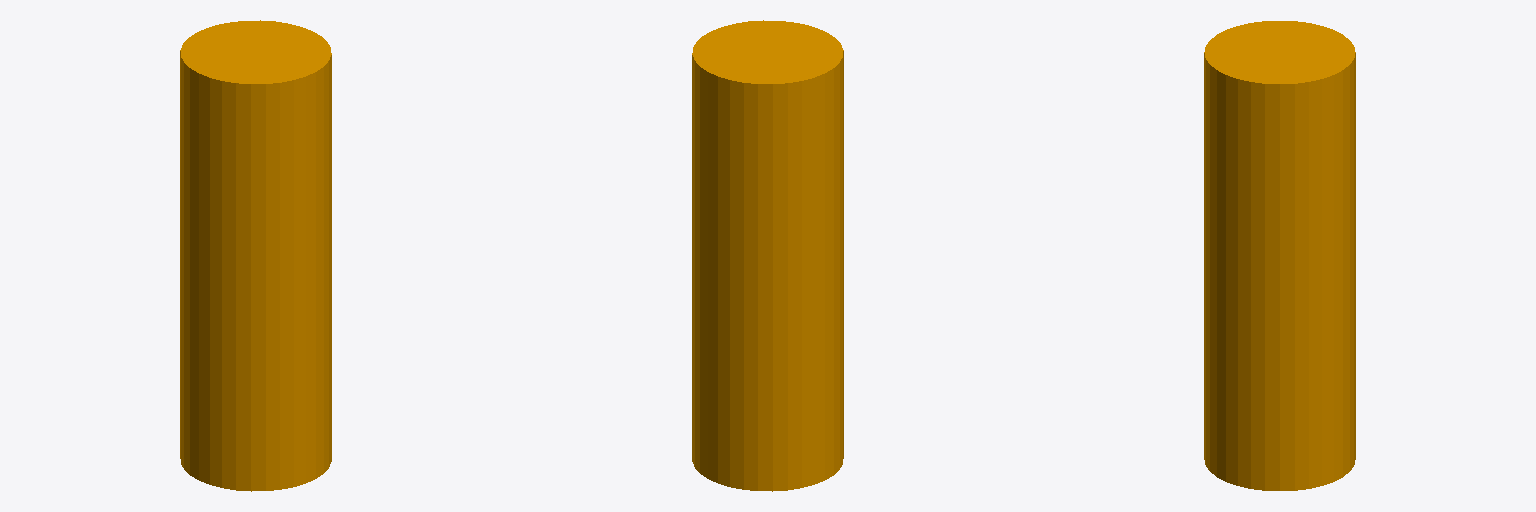
URDF robot description (simple_box):
<?xml version="1.0"?>
<robot name="simple_box">
  <link name="my_box">
    <inertial>
      <origin xyz="0 0 0" /> 
      <mass value="1.0" />
      <inertia  ixx="1.0" ixy="0.0"  ixz="0.0"  iyy="100.0"  iyz="0.0"  izz="1.0" />
    </inertial>
    <visual>
      <origin xyz="0 0 0"/>
      <geometry>
        <cylinder radius="0.029" length="0.172"/>
      </geometry>
    </visual>
    <collision>
      <origin xyz="0 0 0"/>
      <geometry>
        <cylinder radius="0.029" length="0.172"/>
      </geometry>
    </collision>
  </link>
  <gazebo reference="my_box">
    <material>Gazebo/Yellow</material>
  </gazebo>
</robot>

--- What the picture shows (computed from the rendered views, not written in the file) ---
The picture shows the robot from 3 angles, left to right: view 1: azimuth 30°, elevation 25°; view 2: azimuth 150°, elevation 25°; view 3: azimuth 270°, elevation 25°; orthographic projection.
Robot: simple_box — 1 links, 0 joints (none); root link my_box; default pose: all joints at 0.
Visible links, largest first — view 1: my_box; view 2: my_box; view 3: my_box.
Link boxes in pixels (x1,y1,x2,y2): my_box: [180, 20, 331, 491]; my_box: [692, 20, 843, 491]; my_box: [1204, 21, 1355, 490].
Size in the robot's own frame: 0.058 by 0.058 by 0.172 metres.
Geometry: primitives only (box / cylinder / sphere), no mesh files.